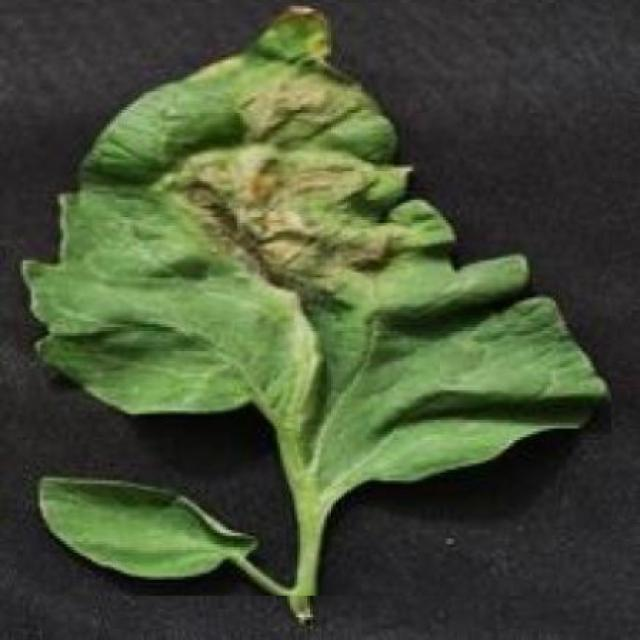Late Blight: (17, 3, 612, 596)
